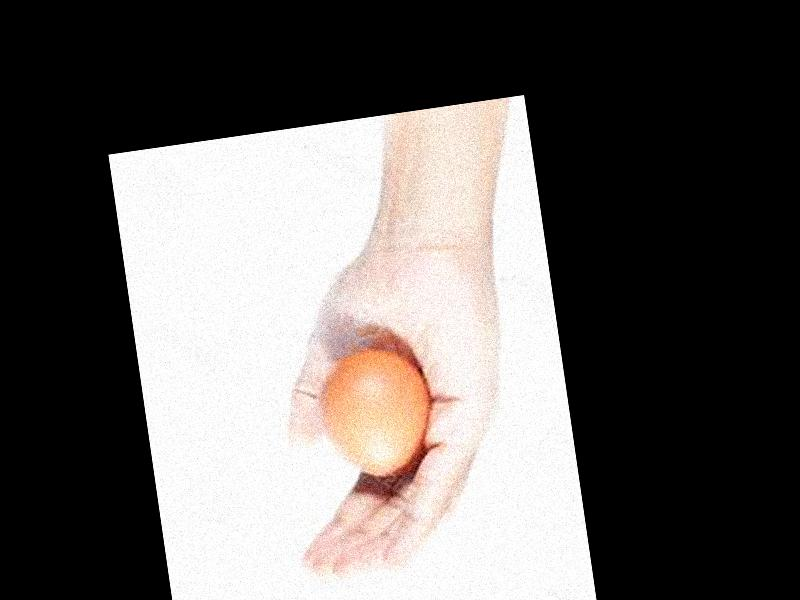Eggs: (314, 344, 436, 482)
